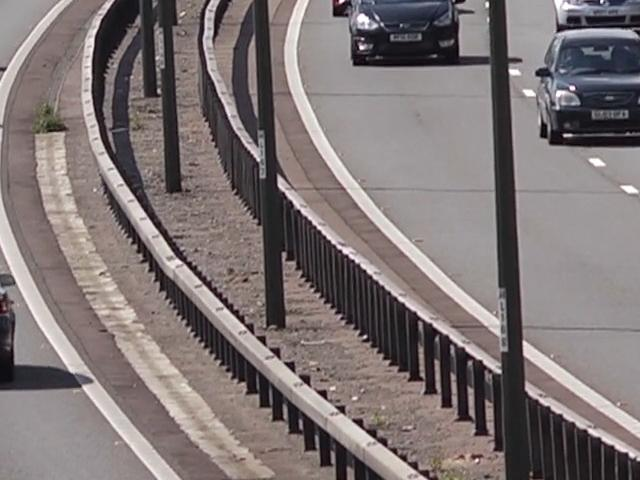car: (541, 25, 640, 145), (355, 0, 468, 66), (546, 0, 640, 33), (331, 0, 420, 21)
